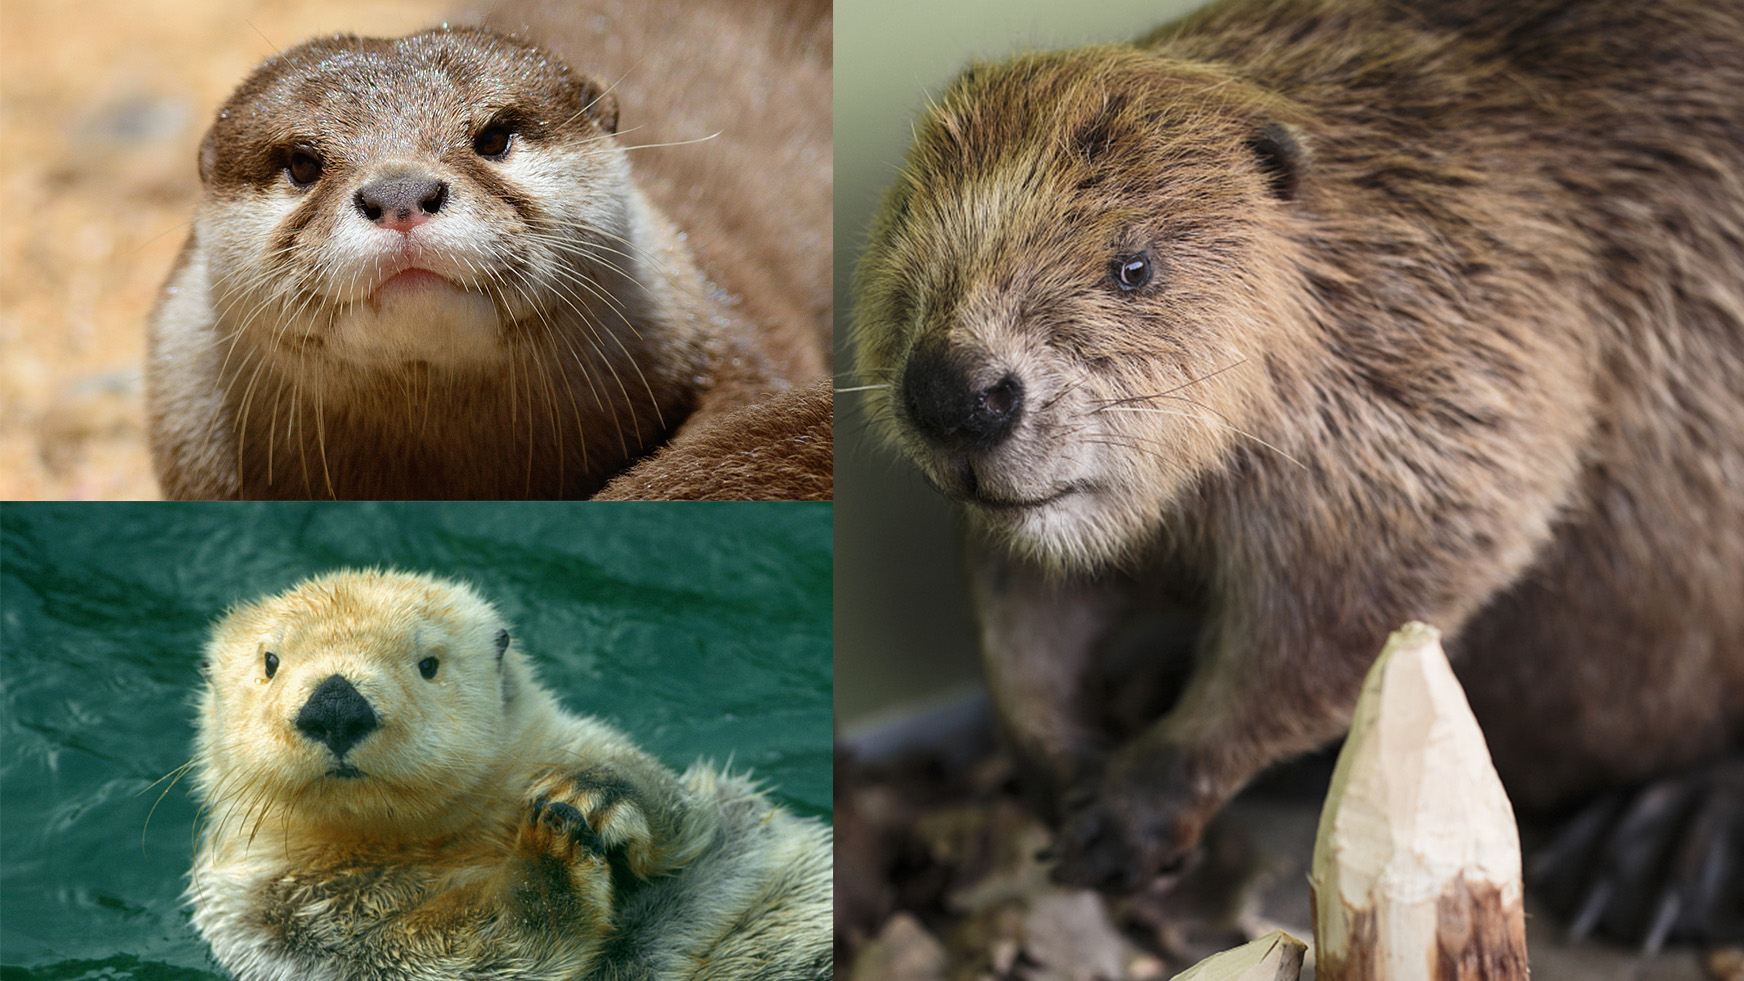otter: (843, 18, 1617, 753), (56, 18, 761, 426), (91, 544, 717, 906)
